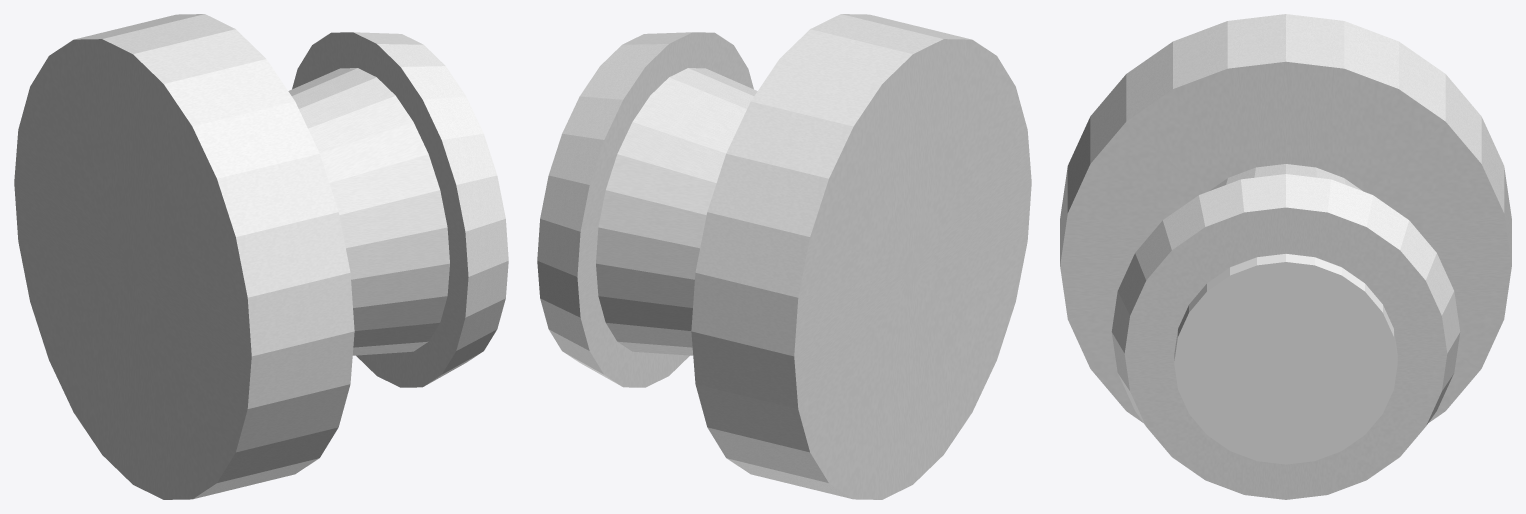
File: minipinholedot.obj
The picture shows the model from 3 angles, left to right: view 1: azimuth 30°, elevation 25°; view 2: azimuth 150°, elevation 25°; view 3: azimuth 270°, elevation 25°; orthographic projection. The views are drawn at different scales.
Parts seen in each view (by area): view 1: Base, Head0Metal, Head0Trim; view 2: Base, Head0Metal, Head0Trim; view 3: Base, Head0Trim, Light0, Head0Metal.
Boxes of the visible parts, x1,y1,x2,y2 form: Base: (14,14,354,499); Head0Metal: (288,68,449,355); Head0Trim: (292,32,508,387); Base: (691,14,1031,499); Head0Metal: (596,68,757,355); Head0Trim: (537,32,753,387); Base: (1060,14,1511,422); Head0Trim: (1111,174,1460,499); Light0: (1174,254,1397,464); Head0Metal: (1209,164,1362,190).
Size of the model in its own units: 0.106 by 0.14 by 0.14.
